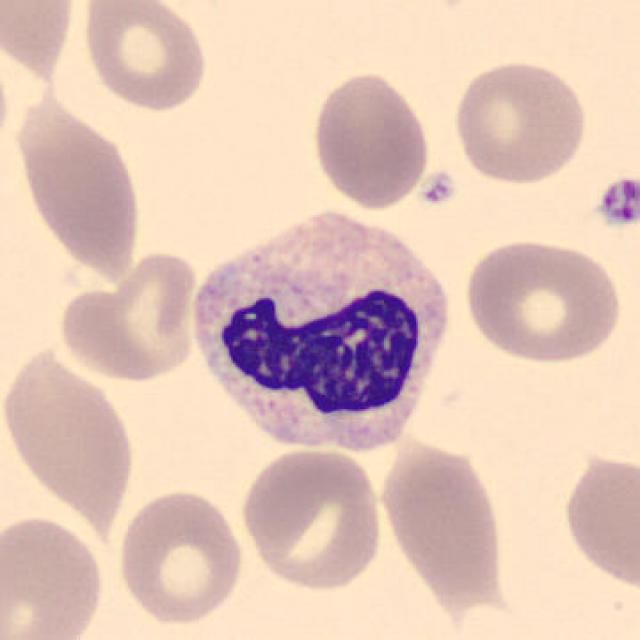Neutrophil: (180, 201, 458, 464)
Platelets: (594, 173, 640, 231)
RBC: (11, 90, 148, 280), (0, 340, 140, 523), (236, 443, 386, 594), (375, 437, 509, 605), (458, 235, 626, 366), (55, 247, 203, 384), (114, 485, 247, 628), (448, 56, 590, 187), (307, 68, 433, 212), (76, 0, 212, 113), (0, 511, 108, 639), (558, 448, 640, 592), (0, 0, 80, 79), (0, 46, 12, 164)
